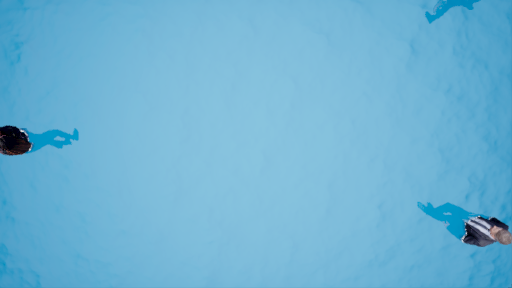person: (417, 202, 512, 250), (1, 106, 82, 159)
